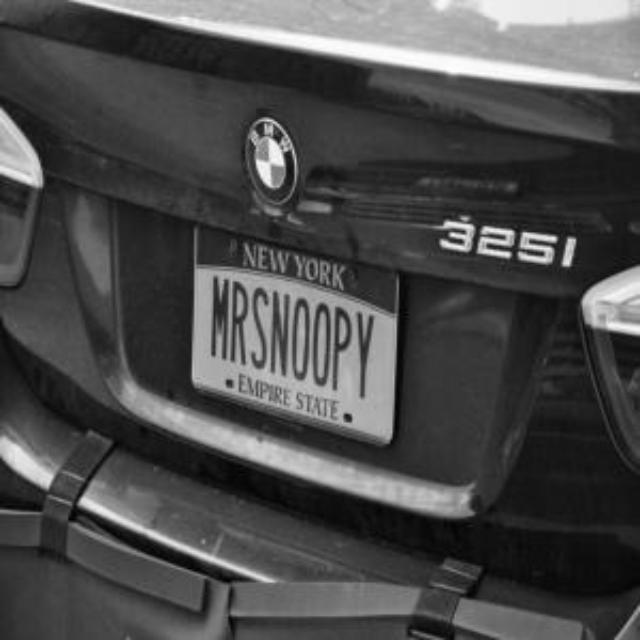License Plate: (191, 227, 398, 444)
